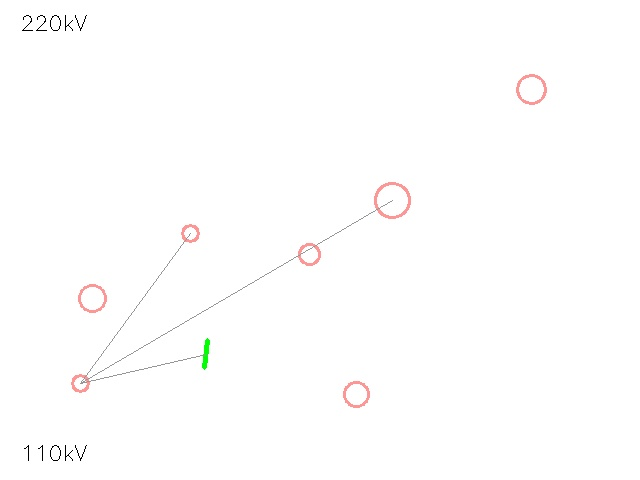busbar: (189, 337, 223, 371)
current_transformer: (358, 166, 426, 234)
feeder_terminal: (502, 60, 560, 118), (174, 217, 206, 249)
fuse: (65, 271, 119, 325)
load_break_switch: (288, 233, 330, 275)
reactor: (63, 366, 97, 400)
voltage_transformer: (331, 369, 381, 419)
